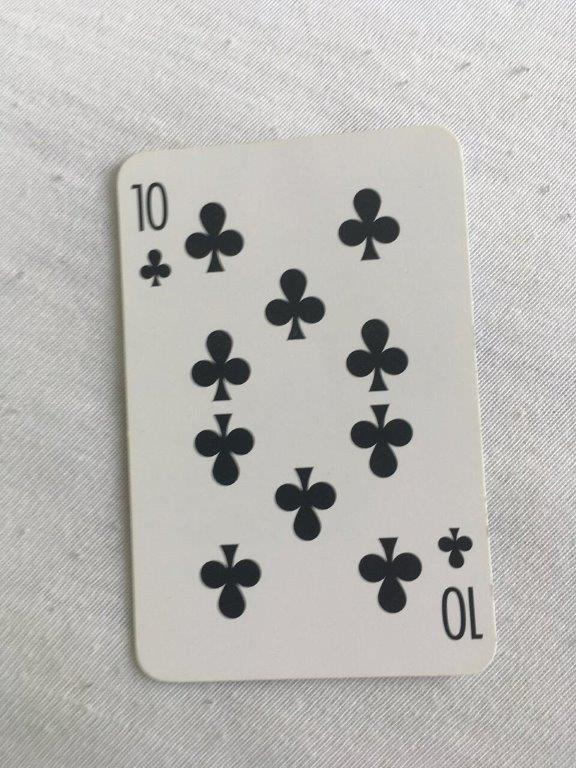10C: (112, 123, 501, 685)
